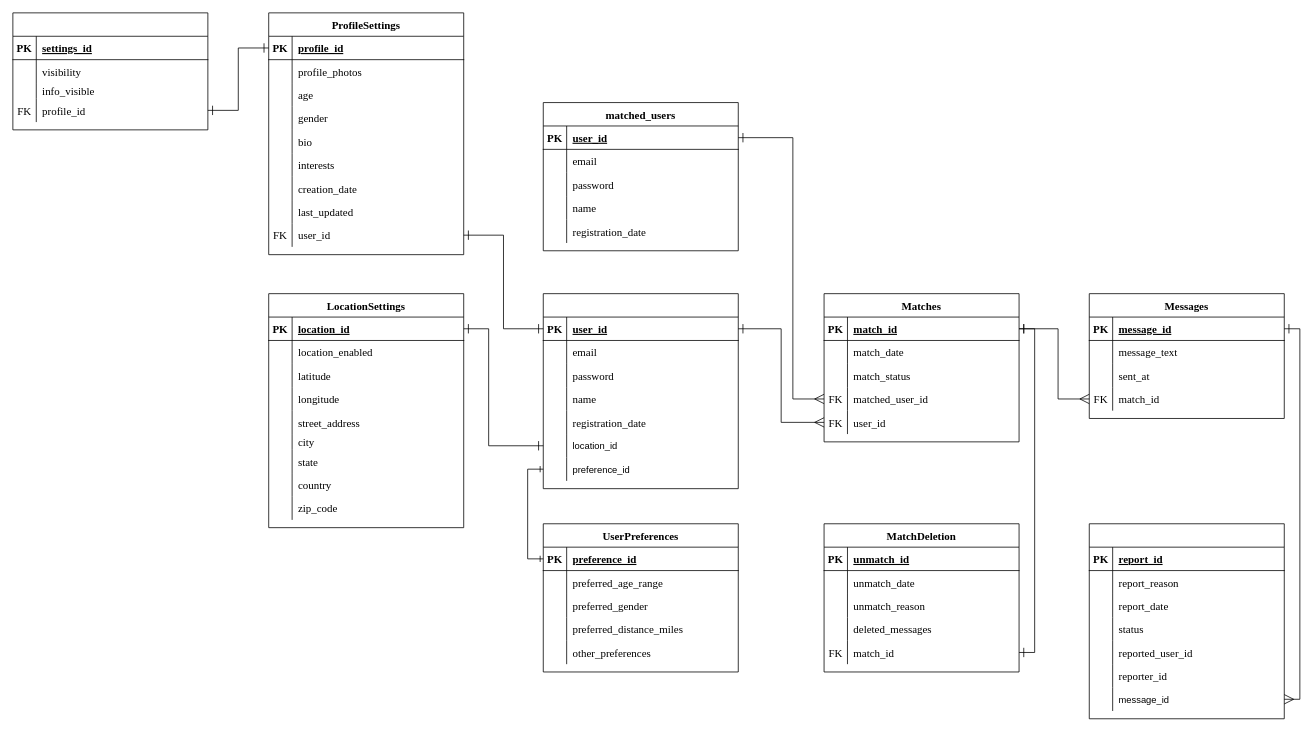
This 1313x732 diagram has some shape labels left out. The shapes that lost their labels are listed below. From the top down, each one's box as (x1, y1, x2, y2) in pixels, then its label:
(12, 12, 208, 130): PrivacySettings
(542, 293, 738, 489): Users
(1088, 523, 1284, 719): Reports
